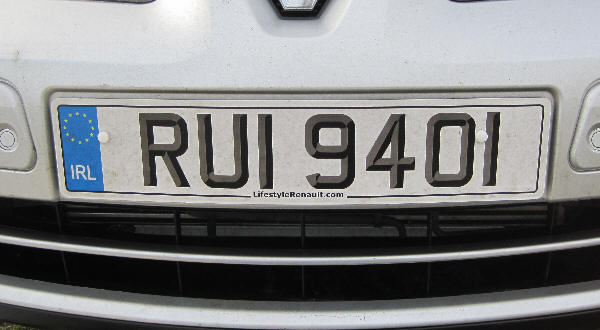license_plate: (51, 101, 550, 200)
